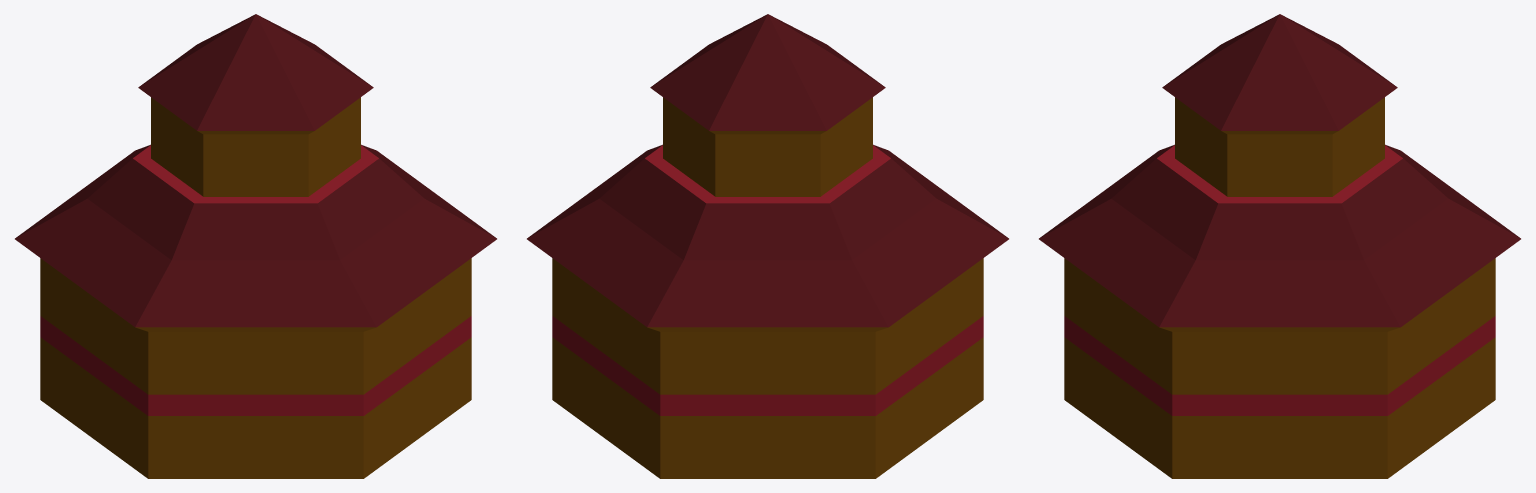
The model's file is EnemyBuildingRemaster.fbx.
The picture shows the model from 3 angles, left to right: view 1: azimuth 30°, elevation 25°; view 2: azimuth 150°, elevation 25°; view 3: azimuth 270°, elevation 25°; orthographic projection.
Parts seen in each view (by area): view 1: EnemyBuilding; view 2: EnemyBuilding; view 3: EnemyBuilding.
Boxes of the visible parts, bbox=[...] form: EnemyBuilding: bbox=[15, 14, 496, 478]; EnemyBuilding: bbox=[527, 14, 1008, 478]; EnemyBuilding: bbox=[1039, 14, 1520, 478].
Bounding box in the file's own units: 133 × 135 × 153.
